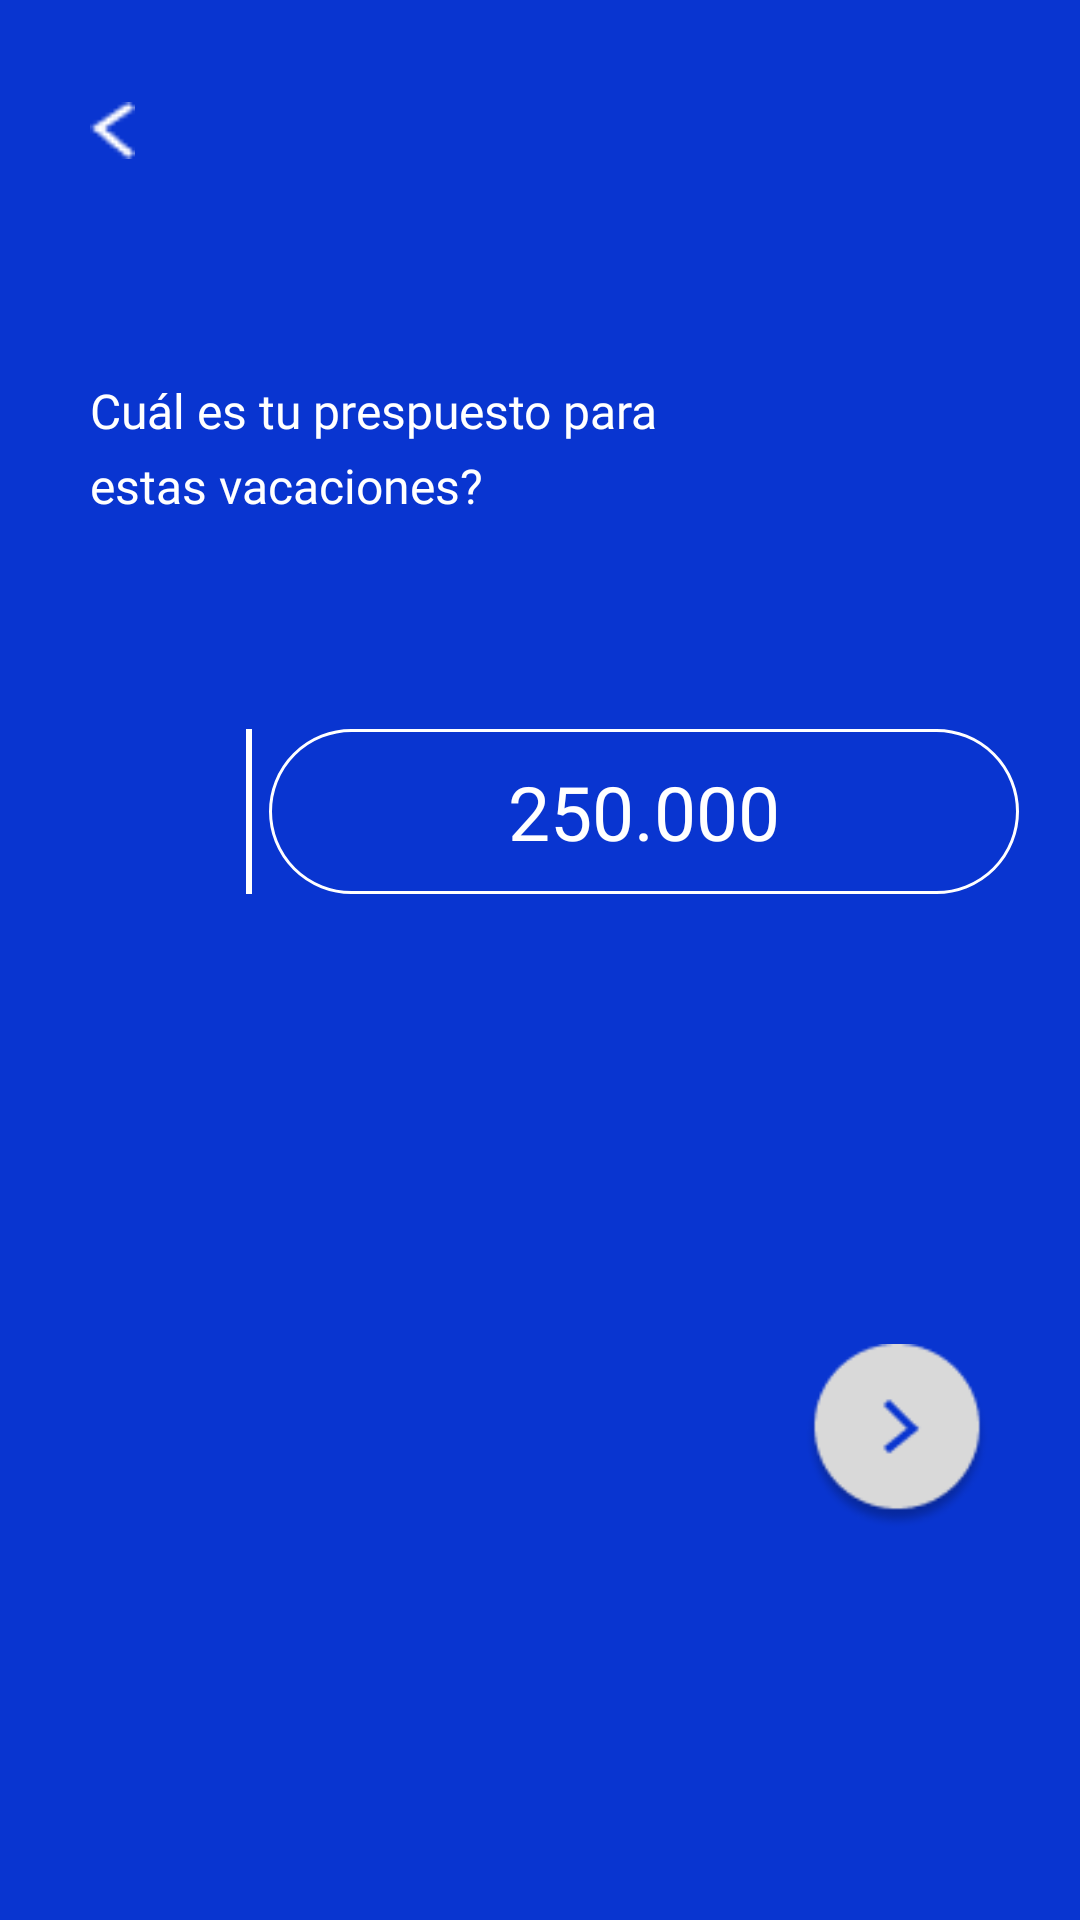

Icon click points for this 1080px x 1920px phone screenshot, format (x=x, y=y):
before: (x=112, y=130)
next: (x=897, y=1431)
